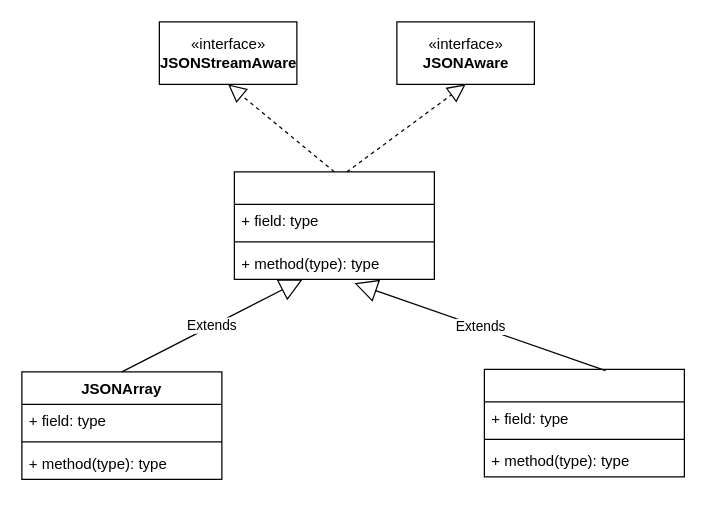
Some shapes in this 706 by 505 pixel diagram are drawn without their labels. The shapes that lost their labels are listed below. From the top down, each one's box as (x1, y1, x2, y2) in pixels, then its label:
(233, 171, 434, 279): JSON
(483, 368, 684, 477): JSONObject
